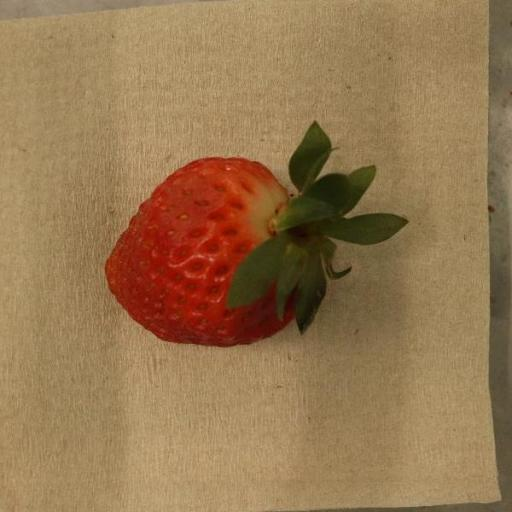Strawberry: (104, 121, 408, 348)
